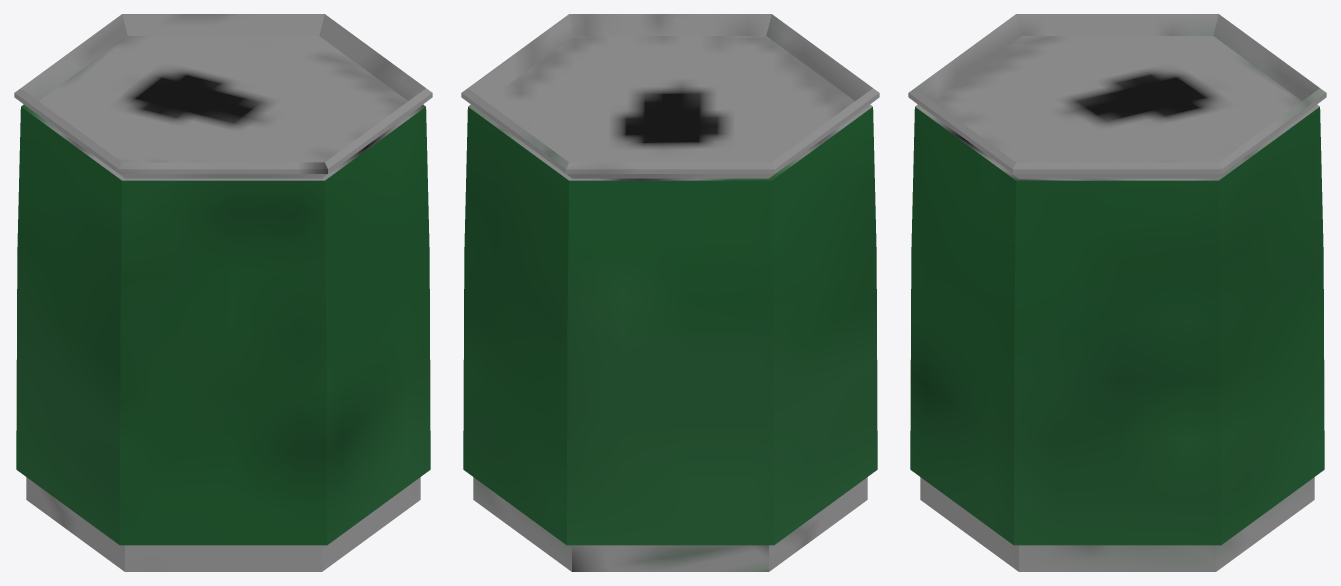
The model's file is soda.glb.
3 renders of one model, left to right at view 1: azimuth 30°, elevation 25°; view 2: azimuth 150°, elevation 25°; view 3: azimuth 270°, elevation 25°, orthographic.
Parts seen in each view (by area): view 1: Soda; view 2: Soda; view 3: Soda.
Part boxes in pixels (bbox=[...]): Soda: bbox=[14, 14, 432, 571]; Soda: bbox=[461, 14, 879, 571]; Soda: bbox=[908, 14, 1326, 571].
Size of the model in its own units: 0.1006 by 0.1262 by 0.1162.
1 material, 1 textured.
